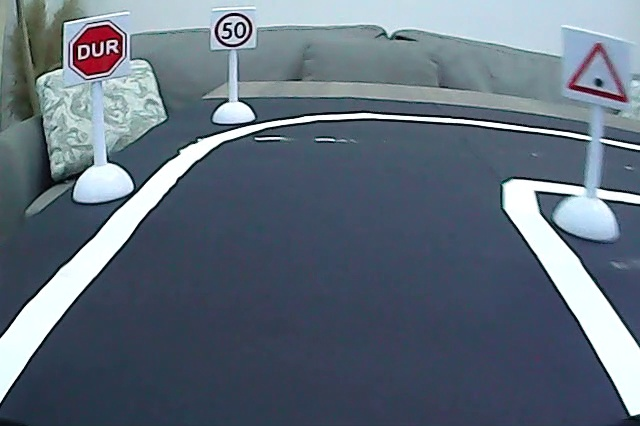green light: (562, 39, 632, 107)
speed limit 50: (213, 10, 254, 50)
stop sign: (67, 19, 129, 81)
